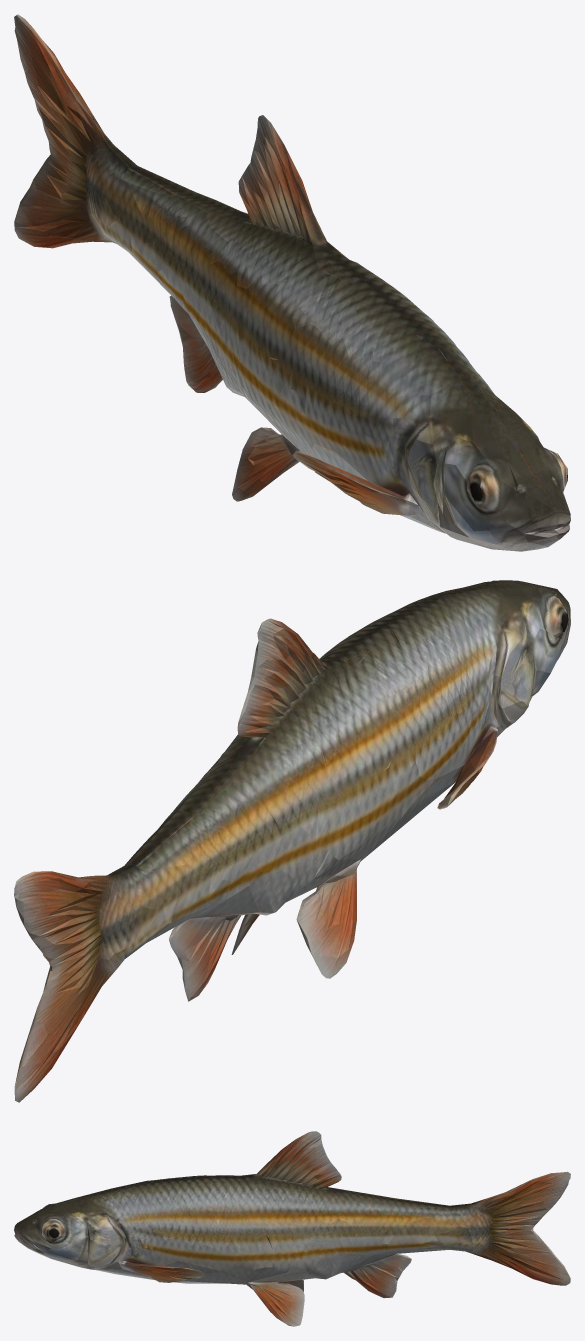
File: fish-hwangeo.glb
The picture shows the model from 3 angles, top to bottom: view 1: azimuth 30°, elevation 25°; view 2: azimuth 150°, elevation 25°; view 3: azimuth 270°, elevation 25°; orthographic projection. The views are drawn at different scales.
Parts seen in each view (by area): view 1: output_unwrapped; view 2: output_unwrapped; view 3: output_unwrapped.
Part boxes in pixels (x1,y1,x2,y2): output_unwrapped: (14,14,570,551); output_unwrapped: (14,580,570,1102); output_unwrapped: (14,1131,570,1326).
Size of the model in its own units: 0.3232 by 0.691 by 1.9.
Materials: 1 (1 with a texture image).
